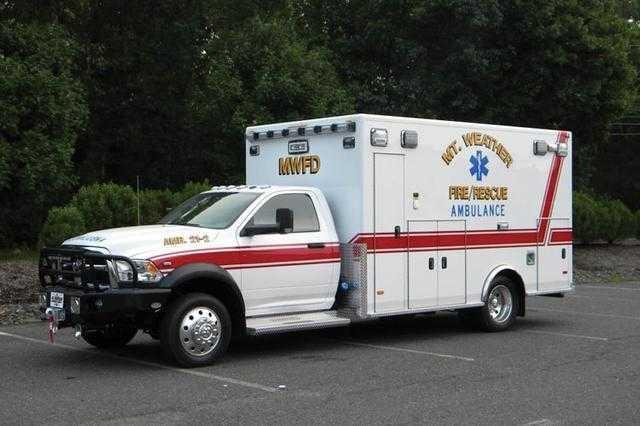car: (37, 112, 574, 367)
